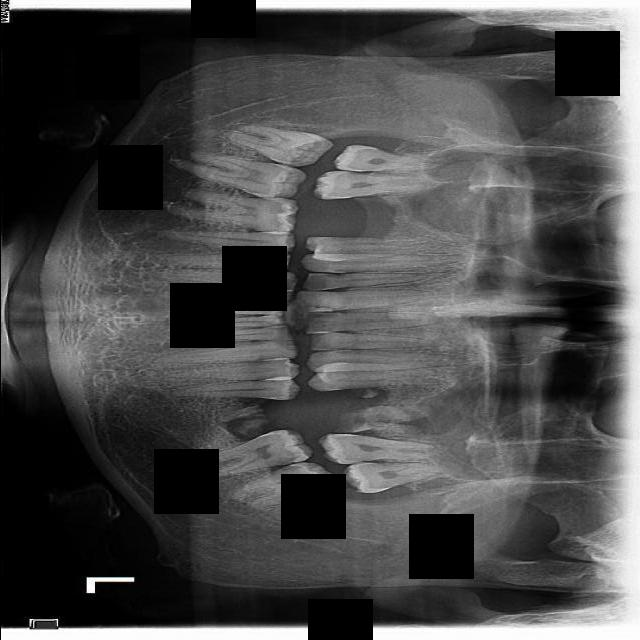72: (236, 410, 268, 441), (216, 404, 265, 424), (355, 388, 378, 398)
Sterngold Implant: (331, 405, 376, 437), (267, 201, 287, 229), (276, 460, 305, 478), (266, 456, 304, 467), (322, 273, 346, 280), (268, 430, 284, 437)
Straumann Implant: (302, 306, 336, 312)
